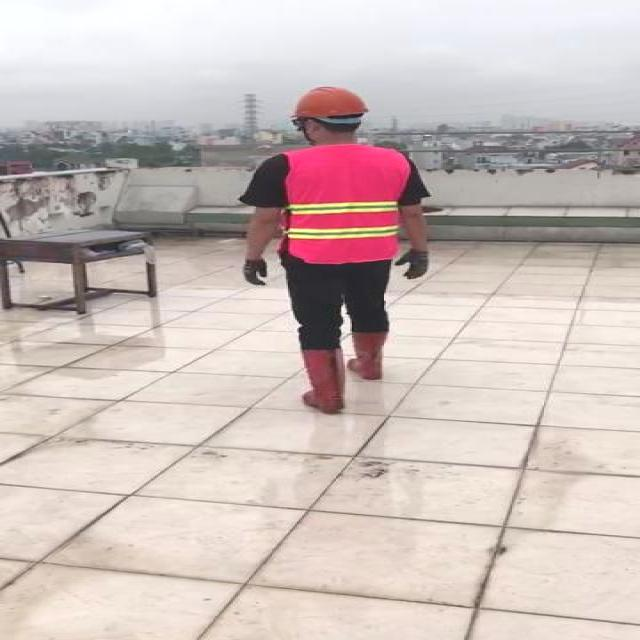boots: (295, 346, 349, 413), (349, 329, 391, 380)
hand_glove: (398, 249, 427, 280), (242, 257, 268, 289)
head_helmet: (289, 84, 372, 122)
person: (220, 82, 431, 424)
vest: (276, 145, 410, 262)
